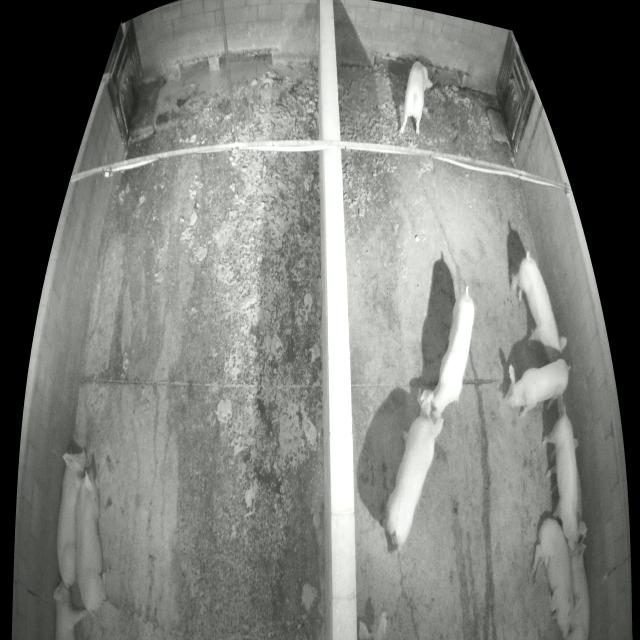pig: (382, 396, 444, 545), (420, 292, 475, 419), (509, 257, 567, 363), (530, 519, 582, 637), (542, 415, 586, 549), (75, 466, 107, 614), (56, 449, 88, 588), (503, 360, 569, 419), (398, 61, 433, 136), (568, 540, 590, 639), (54, 580, 86, 639), (359, 607, 386, 636)
